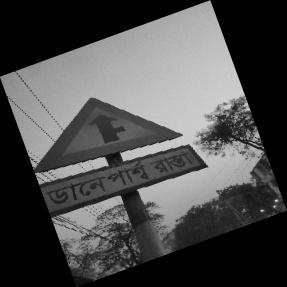Side-road-right: (33, 97, 203, 218)
